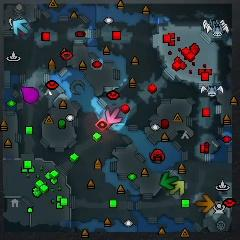Other: (96, 118, 108, 132)
p3: (21, 86, 40, 104)
x1: (105, 108, 123, 124)
x2: (169, 180, 185, 196)
x3: (13, 20, 29, 35)
x4: (160, 172, 179, 189)
x5: (196, 194, 214, 212)
